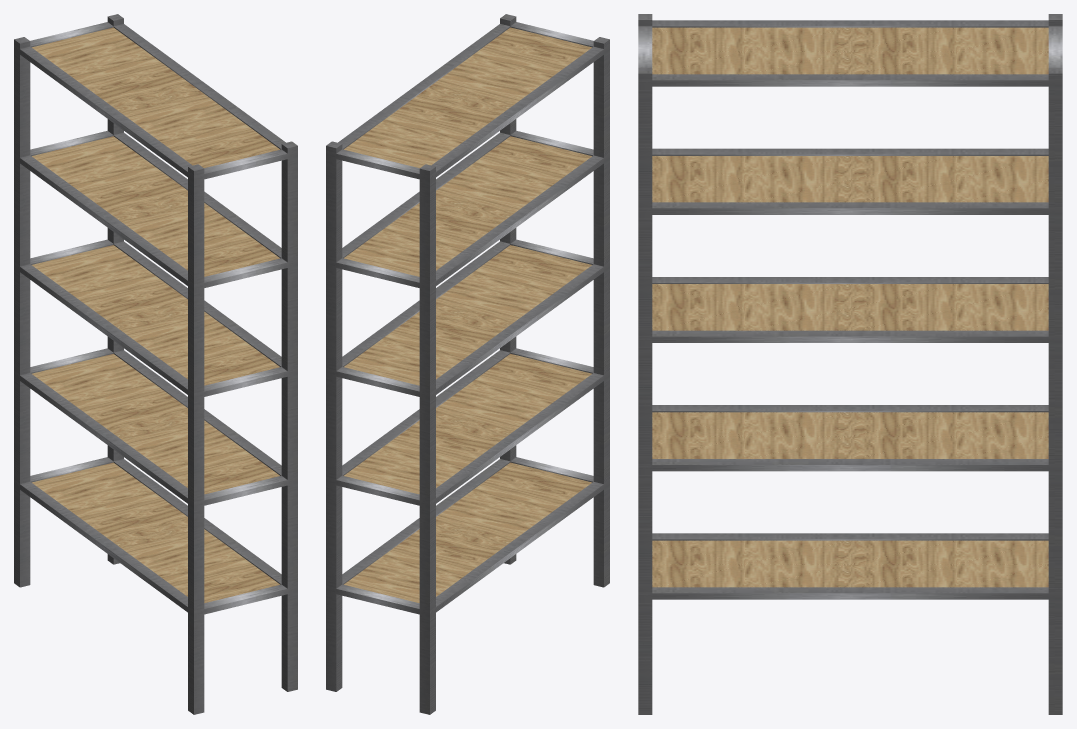
File: MetalShelf200cm001.FBX
3 views of the same model, side by side, from view 1: azimuth 30°, elevation 25°; view 2: azimuth 150°, elevation 25°; view 3: azimuth 270°, elevation 25° (orthographic). The views are drawn at different scales.
Visible parts, largest first — view 1: MetalShelf200cm001; view 2: MetalShelf200cm001; view 3: MetalShelf200cm001.
Boxes of the visible parts, bbox=[...] form: MetalShelf200cm001: bbox=[14, 14, 297, 714]; MetalShelf200cm001: bbox=[326, 14, 609, 714]; MetalShelf200cm001: bbox=[638, 14, 1062, 714].
Bounding box in the file's own units: 50 × 250 × 150.
